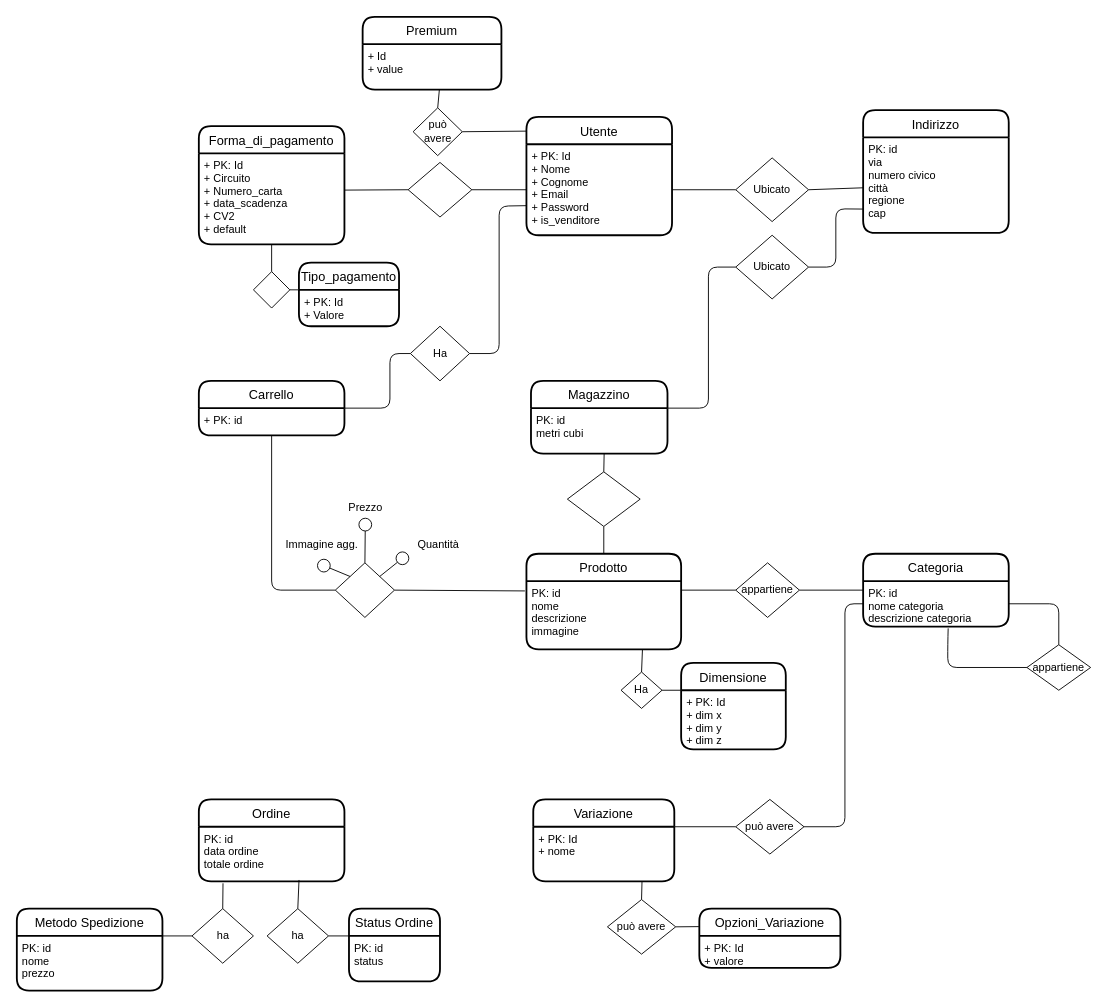
Some shapes in this 1107 by 1006 pixel diagram are drawn without their labels. The centre of each missing label's shape, as x and y in pixels:
contiene: [364,589]
di: [271,289]
Registra: [439,189]
Risiede: [603,498]
